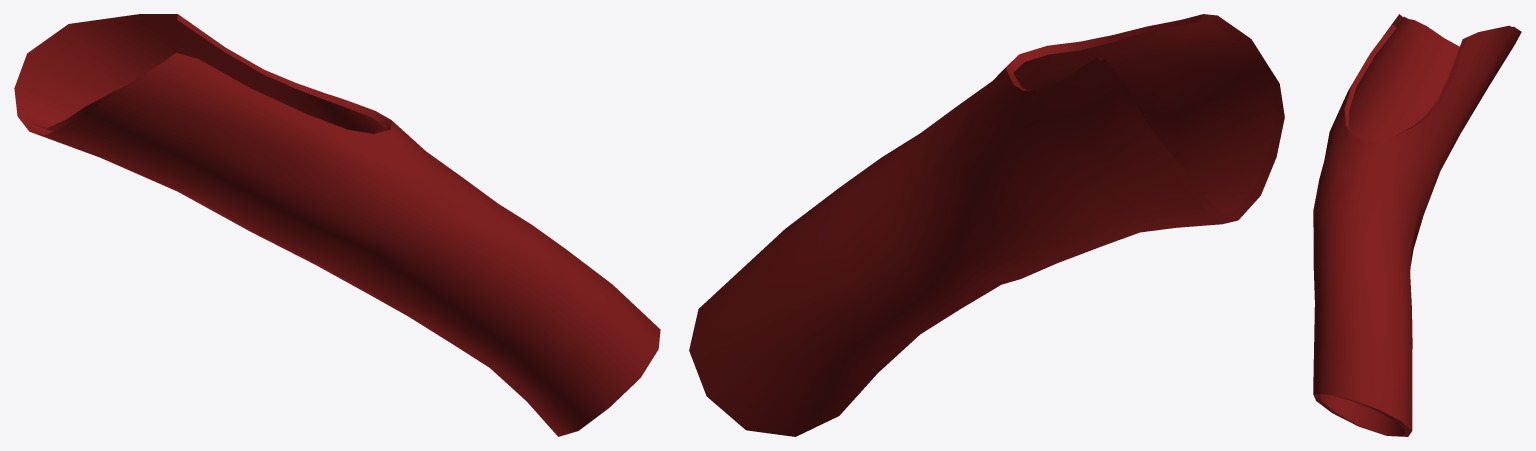
Rendered from break apart R_subclavian_artery.FBX.
3 views of the same model, side by side, from view 1: azimuth 30°, elevation 25°; view 2: azimuth 150°, elevation 25°; view 3: azimuth 270°, elevation 25° (orthographic). The views are drawn at different scales.
Parts seen in each view (by area): view 1: R_Subclavian_Artery; view 2: R_Subclavian_Artery; view 3: R_Subclavian_Artery.
Part boxes in pixels (x1,y1,x2,y2): R_Subclavian_Artery: (14, 14, 660, 436); R_Subclavian_Artery: (689, 14, 1284, 436); R_Subclavian_Artery: (1313, 14, 1521, 436).
Size of the model in its own units: 3.87 by 3.11 by 1.95.
